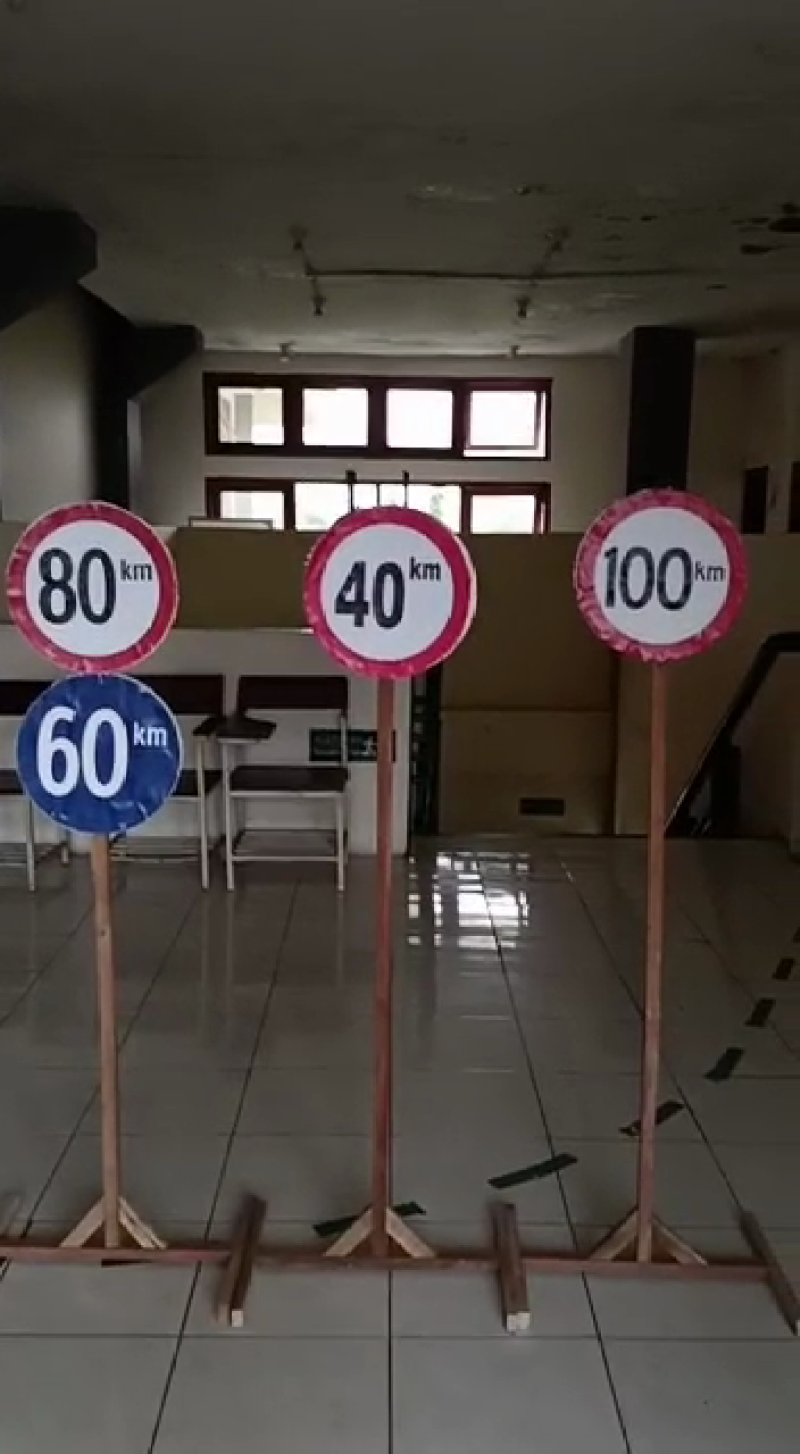batas maksimal 100kmperjam: (576, 479, 750, 679)
batas maksimal 40kmperjam: (289, 494, 481, 681)
batas maksimal 80kmperjam minimal 60kmperjam: (5, 496, 187, 853)
